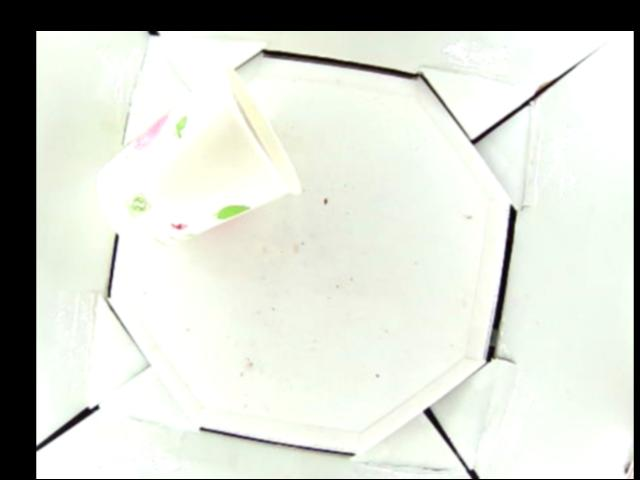Cup: (92, 65, 306, 248)
